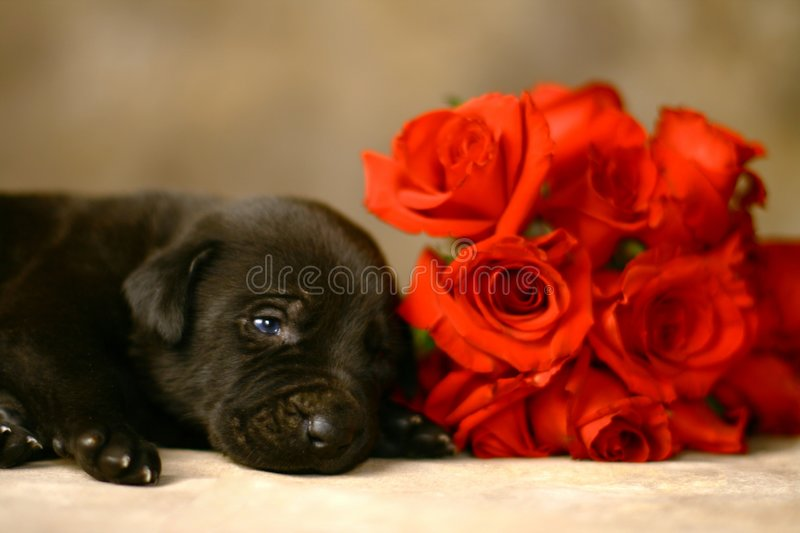RedRose: (360, 95, 558, 258), (603, 233, 772, 412), (421, 228, 594, 388)
